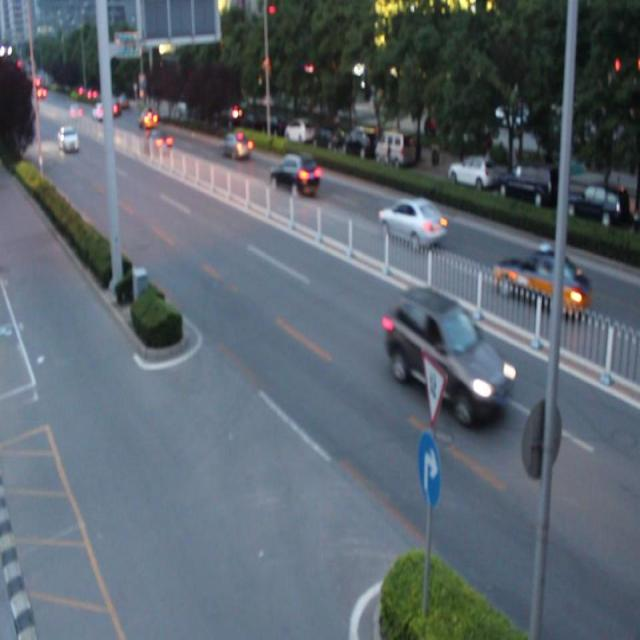car: (389, 288, 509, 416), (496, 248, 586, 316), (379, 198, 444, 248), (268, 152, 320, 196), (218, 133, 254, 161), (143, 130, 174, 162)
